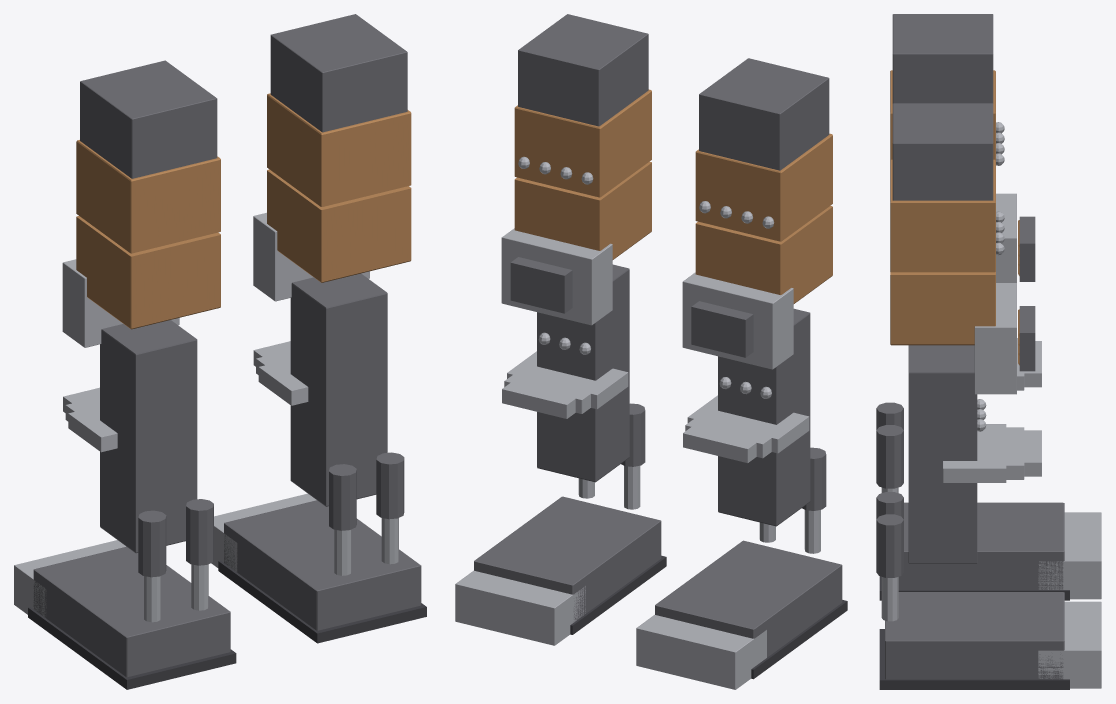
File: legs-bruiser2.glb
3 views of the same model, side by side, from view 1: azimuth 30°, elevation 25°; view 2: azimuth 150°, elevation 25°; view 3: azimuth 270°, elevation 25° (orthographic). The views are drawn at different scales.
Visible parts, largest first — view 1: thigh_l, thigh_r, shin_l, shin_r, foot_r, foot_l, hip_l, hip_r, kneeshroud_r, kneeshroud_l, sole_r, sole_l (+14 smaller); view 2: thigh_r, thigh_l, foot_l, foot_r, shin_r, shin_l, hip_l, hip_r, toe_r, toe_l, kneeshroud_l, kneeshroud_r (+14 smaller); view 3: thigh_l, foot_l, shin_l, foot_r, hip_l, hip_r, toe_l, toe_r, kneeshroud_l, sole_l, plate0_l, sleeve_l (+12 smaller).
Part boxes in pixels (box(x1,y1,x2,y2)): thigh_l: box(267, 93, 411, 282); thigh_r: box(76, 140, 220, 329); shin_l: box(290, 273, 387, 506); shin_r: box(100, 320, 197, 553); foot_r: box(33, 546, 230, 677); foot_l: box(224, 500, 421, 630); hip_l: box(270, 14, 407, 132); hip_r: box(80, 60, 217, 178); kneeshroud_r: box(62, 259, 179, 347); kneeshroud_l: box(253, 212, 369, 301); sole_r: box(28, 607, 236, 689); sole_l: box(218, 560, 426, 643); thigh_r: box(695, 133, 832, 303); thigh_l: box(514, 89, 651, 259); foot_l: box(474, 496, 661, 621); foot_r: box(655, 540, 842, 657); shin_r: box(718, 308, 810, 526); shin_l: box(537, 264, 629, 482); hip_l: box(518, 14, 648, 126); hip_r: box(699, 58, 829, 170); toe_r: box(636, 615, 766, 689); toe_l: box(455, 570, 585, 645); kneeshroud_l: box(501, 228, 612, 325); kneeshroud_r: box(682, 272, 793, 369); thigh_l: box(890, 159, 995, 345); foot_l: box(885, 592, 1064, 679); shin_l: box(908, 345, 977, 563); foot_r: box(898, 502, 1064, 589); hip_l: box(892, 103, 993, 200); hip_r: box(892, 14, 993, 103); toe_l: box(1038, 601, 1101, 688); toe_r: box(1038, 512, 1101, 599); kneeshroud_l: box(974, 283, 1016, 394); sole_l: box(879, 629, 1069, 689); plate0_l: box(943, 424, 1006, 482); sleeve_l: box(876, 514, 903, 577).
Size of the model in its own units: 0.63 by 1.13 by 0.426.
